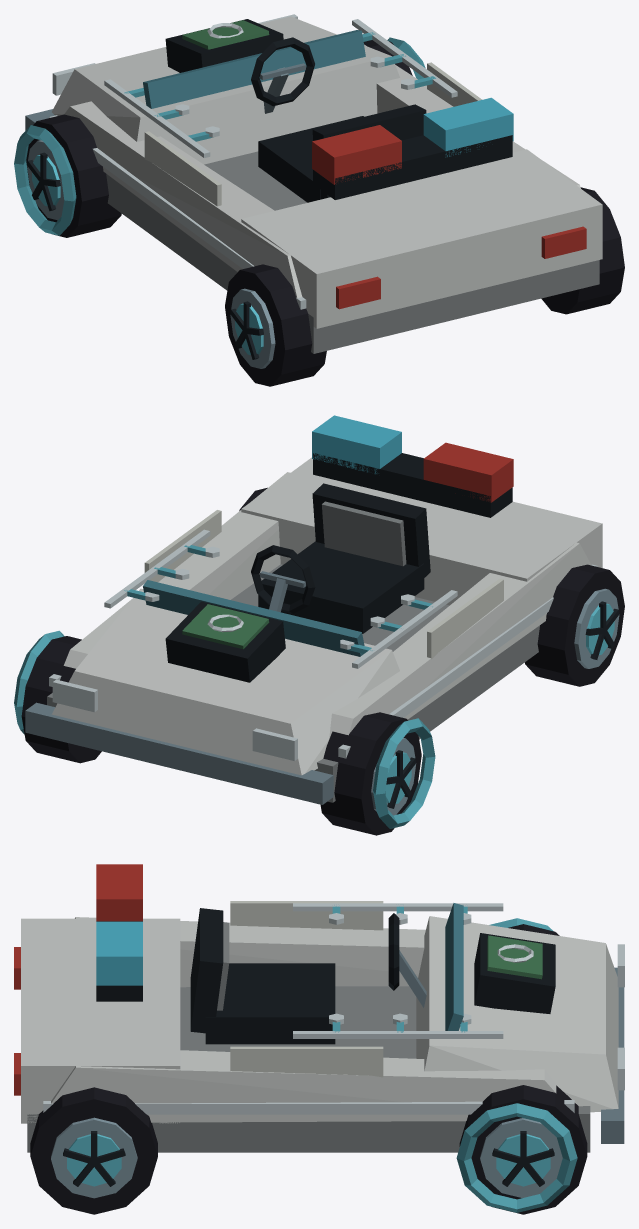
The model's file is kart.glb.
3 renders of one model, top to bottom at view 1: azimuth 30°, elevation 25°; view 2: azimuth 150°, elevation 25°; view 3: azimuth 270°, elevation 25°, orthographic. The views are drawn at different scales.
Visible parts, largest first — view 1: identity-police-car-police-car-road-car-body, wheel-rear-left, identity-police-car-driver-cockpit, wheel-front-left, identity-police-car-motif-neon, identity-police-car-motif-scanner, identity-police-car-motif-circuit, wheel-rear-right; view 2: identity-police-car-police-car-road-car-body, identity-police-car-driver-cockpit, wheel-rear-left, wheel-front-left, identity-police-car-motif-scanner, identity-police-car-motif-neon, identity-police-car-motif-circuit, wheel-front-right; view 3: identity-police-car-police-car-road-car-body, identity-police-car-driver-cockpit, wheel-rear-right, identity-police-car-motif-neon, wheel-front-right, identity-police-car-motif-scanner, identity-police-car-motif-circuit.
Part boxes in pixels (<box>): identity-police-car-police-car-road-car-body: <box>25,14,602,353</box>; wheel-rear-left: <box>225,264,326,386</box>; identity-police-car-driver-cockpit: <box>251,37,426,202</box>; wheel-front-left: <box>26,114,121,237</box>; identity-police-car-motif-neon: <box>14,37,425,309</box>; identity-police-car-motif-scanner: <box>165,19,283,72</box>; identity-police-car-motif-circuit: <box>104,19,457,157</box>; wheel-rear-right: <box>541,187,624,314</box>; identity-police-car-police-car-road-car-body: <box>25,415,602,804</box>; identity-police-car-driver-cockpit: <box>251,483,430,633</box>; wheel-rear-left: <box>525,564,624,686</box>; wheel-front-left: <box>320,712,421,835</box>; identity-police-car-motif-scanner: <box>165,601,285,682</box>; identity-police-car-motif-neon: <box>14,564,597,828</box>; identity-police-car-motif-circuit: <box>104,529,457,668</box>; wheel-front-right: <box>21,636,101,763</box>; identity-police-car-police-car-road-car-body: <box>14,864,624,1152</box>; identity-police-car-driver-cockpit: <box>190,908,426,1044</box>; wheel-rear-right: <box>30,1087,157,1214</box>; identity-police-car-motif-neon: <box>43,918,577,1212</box>; wheel-front-right: <box>459,1085,587,1214</box>; identity-police-car-motif-scanner: <box>474,933,555,1013</box>; identity-police-car-motif-circuit: <box>293,903,503,1038</box>.
Size of the model in its own units: 2.13 by 1.13 by 2.88.
